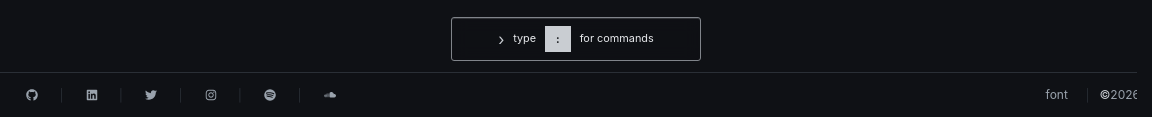
Test case: command dock › toggles open and closed on consecutive clicks
Click the button with aria-label "Open command palette".
click(576, 39)  # box left=451, top=17, right=701, bottom=61
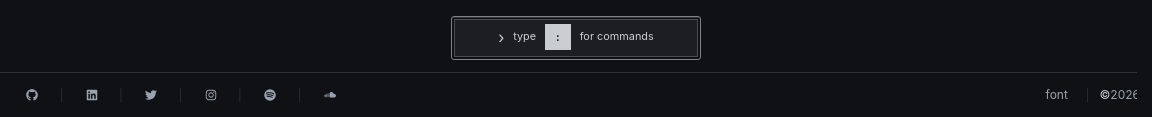
Expected: the button with aria-label "Close command palette" is expanded
Click the button with aria-label "Close command palette".
click(576, 38)  # box left=451, top=16, right=701, bottom=60
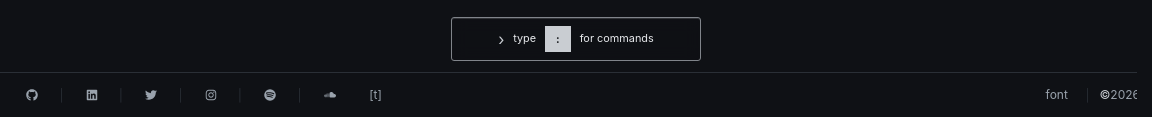
Expected: the button with aria-label "Open command palette" is collapsed, left=451, top=17, right=701, bottom=61
